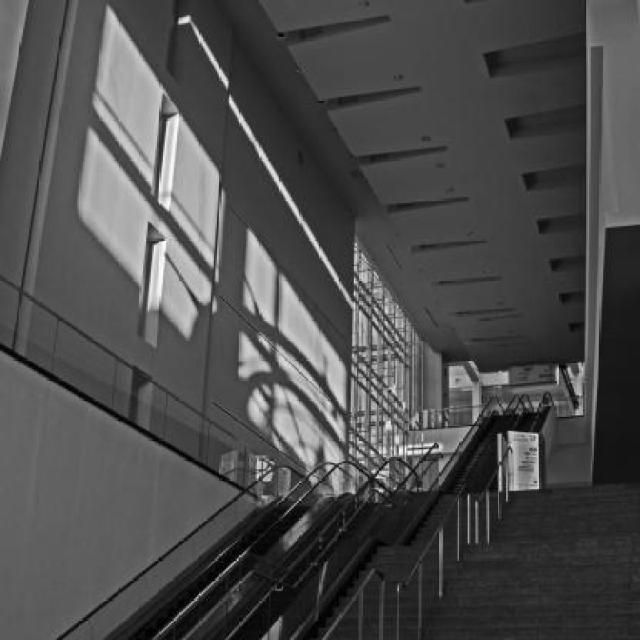stair: (305, 478, 640, 639), (442, 408, 544, 492)
